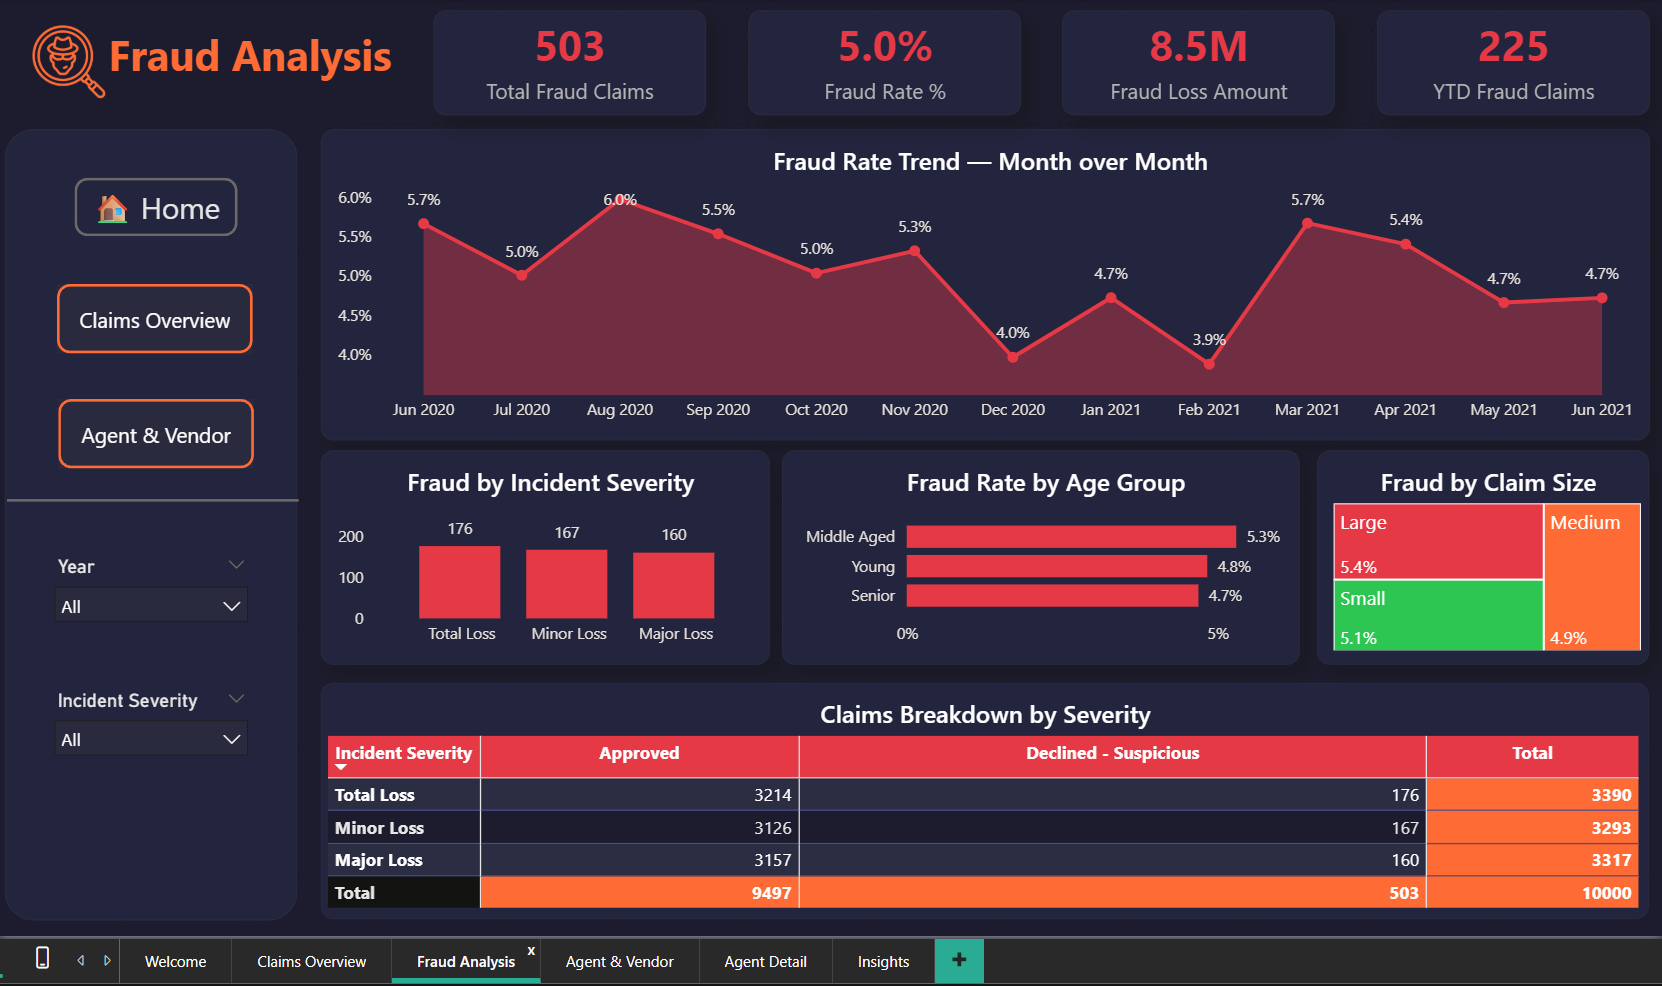

Layout of this report page (visuals, bound fields, positions):
{"tool":"powerbi","page":{"name":"Fraud Analysis","canvas":[1280,720],"ordinal":2},"visuals":[{"type":"shape","box":[5.9,99.6,225.2,608],"z":0},{"type":"lineChart","title":"Fraud Rate Trend — Month over Month","fields":{"Category":["Date Table.Month-Year"],"Y":["FactClaims.Fraud Rate %"]},"box":[248.9,99.6,1020.4,239.4],"z":1000},{"type":"textbox","box":[75.9,16.6,237,59.3],"z":2000},{"type":"actionButton","box":[59.5,137.7,125.2,44.9],"z":3000},{"type":"slicer","fields":{"Values":["Date Table.Year"]},"box":[34.1,422.2,169.3,60.9],"z":4000},{"type":"slicer","fields":{"Values":["FactClaims.INCIDENT_SEVERITY"]},"box":[34.1,525.4,169.3,71.2],"z":5000},{"type":"clusteredColumnChart","title":"Fraud by Incident Severity","fields":{"Category":["FactClaims.INCIDENT_SEVERITY"],"Y":["FactClaims.Total Fraud Claims"]},"box":[248.8,346.8,344.8,165.2],"z":6000},{"type":"clusteredBarChart","title":"Fraud Rate by Age Group","fields":{"Category":["FactClaims.Age_Group"],"Y":["FactClaims.Fraud Rate %"]},"box":[602.8,346.8,397.4,165.2],"z":7000},{"type":"treemap","title":"Fraud by Claim Size","fields":{"Group":["FactClaims.Claim_Size_Category"],"Values":["FactClaims.Fraud Rate %"]},"box":[1013.7,346.8,255,165.2],"z":8000},{"type":"pivotTable","title":"Claims Breakdown by Severity","fields":{"Rows":["FactClaims.INCIDENT_SEVERITY"],"Columns":["FactClaims.Fraud_Label"],"Values":["FactClaims.Total Claims"]},"box":[248.8,525.4,1019.9,181.7],"z":9000},{"type":"actionButton","box":[45.9,219.1,150.3,53.2],"z":10000},{"type":"actionButton","box":[47,306.8,150.3,53.2],"z":11000},{"type":"shape","box":[7.3,360,224.3,50.1],"z":12000},{"type":"card","fields":{"Values":["FactClaims.Fraud Rate %"]},"box":[576.8,8.3,209.8,80.6],"z":13000},{"type":"card","fields":{"Values":["FactClaims.YTD Fraud Claims"]},"box":[1059.6,8.3,209.8,80.6],"z":14000},{"type":"card","fields":{"Values":["FactClaims.Fraud Loss Amount"]},"box":[818.2,8.3,209.8,80.6],"z":15000},{"type":"card","fields":{"Values":["FactClaims.Total Fraud Claims"]},"box":[335.4,8.3,209.8,80.6],"z":16000},{"type":"image","box":[24,19.8,62.6,56.3],"z":17000}]}

Visuals, with their boxes on the page's 1280x720 design canvas (x1, y1, x2, y2). These are canvas units, not pixel positions in the 1662x986 screenshot, which may show the page scaled, cropped or inside an application window:
shape: bbox(6, 100, 231, 708)
"Fraud Rate Trend — Month over Month" lineChart: bbox(249, 100, 1269, 339)
textbox: bbox(76, 17, 313, 76)
actionButton: bbox(60, 138, 185, 183)
slicer - Date Table.Year: bbox(34, 422, 203, 483)
slicer - FactClaims.INCIDENT_SEVERITY: bbox(34, 525, 203, 597)
"Fraud by Incident Severity" clusteredColumnChart: bbox(249, 347, 594, 512)
"Fraud Rate by Age Group" clusteredBarChart: bbox(603, 347, 1000, 512)
"Fraud by Claim Size" treemap: bbox(1014, 347, 1269, 512)
"Claims Breakdown by Severity" pivotTable: bbox(249, 525, 1269, 707)
actionButton: bbox(46, 219, 196, 272)
actionButton: bbox(47, 307, 197, 360)
shape: bbox(7, 360, 232, 410)
card - FactClaims.Fraud Rate %: bbox(577, 8, 787, 89)
card - FactClaims.YTD Fraud Claims: bbox(1060, 8, 1269, 89)
card - FactClaims.Fraud Loss Amount: bbox(818, 8, 1028, 89)
card - FactClaims.Total Fraud Claims: bbox(335, 8, 545, 89)
image: bbox(24, 20, 87, 76)
